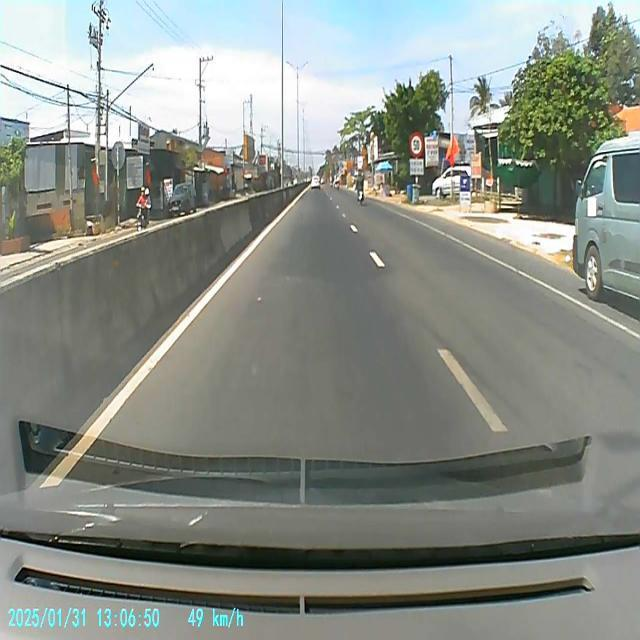127-toc-do-toi-da-50: (408, 130, 424, 158)
